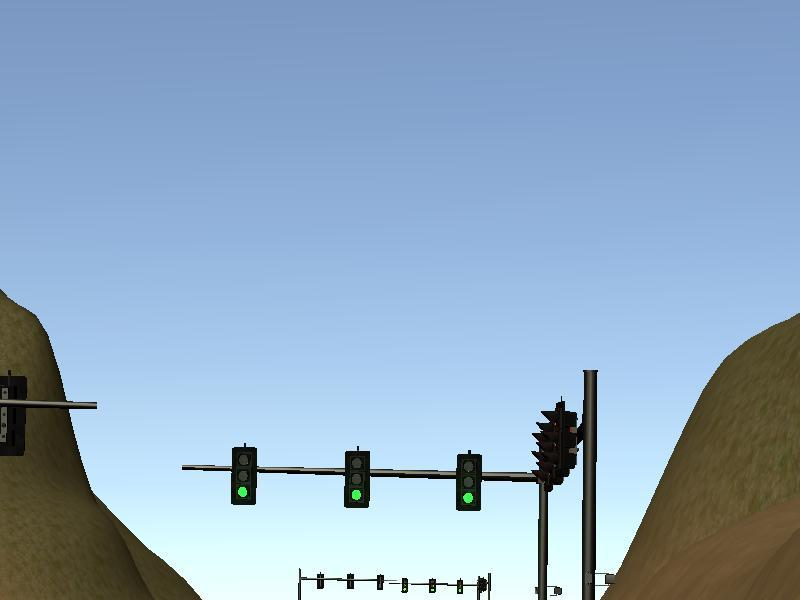Green: (231, 447, 257, 506), (455, 454, 481, 513), (344, 450, 370, 509)
